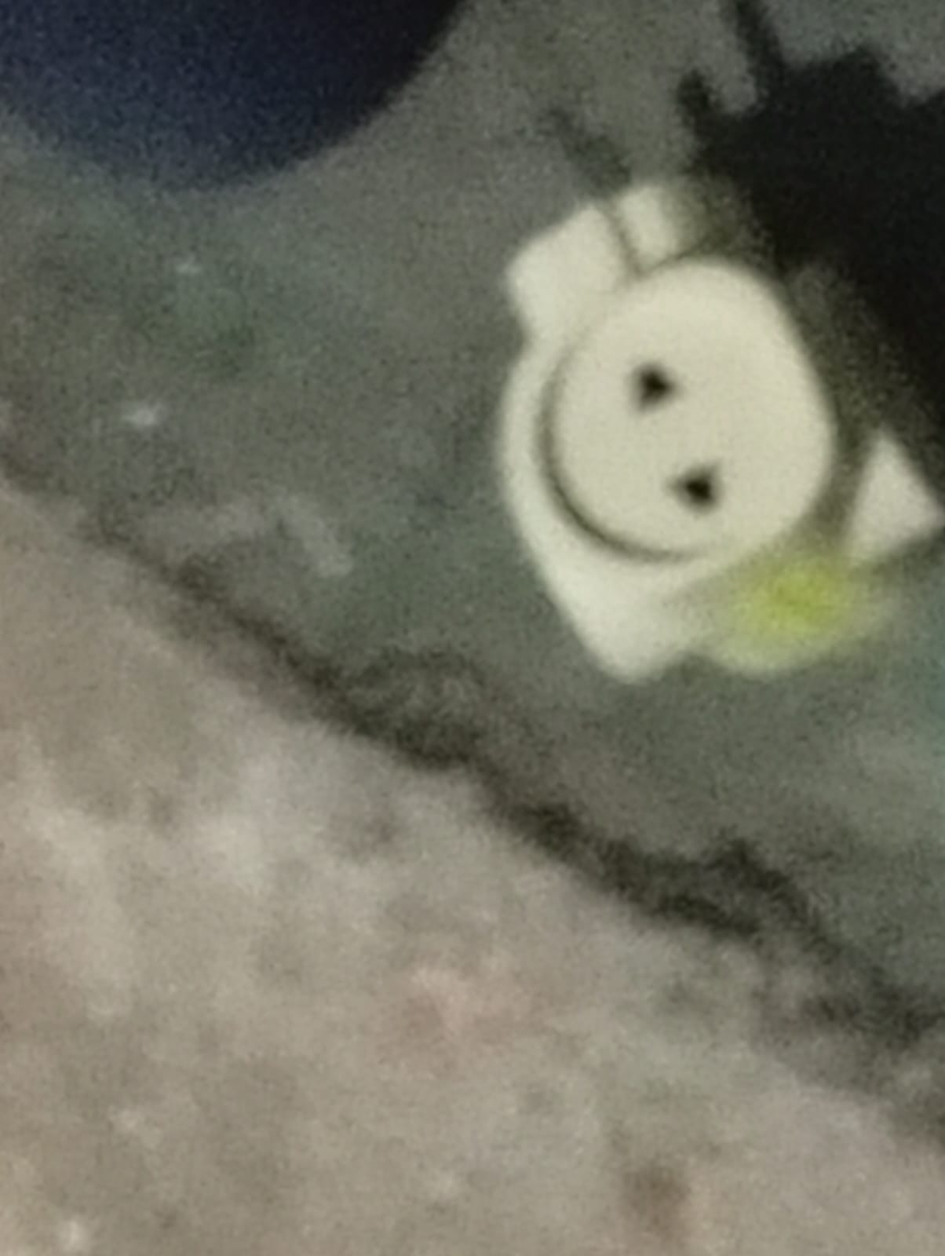Colokan: (399, 103, 945, 707)
